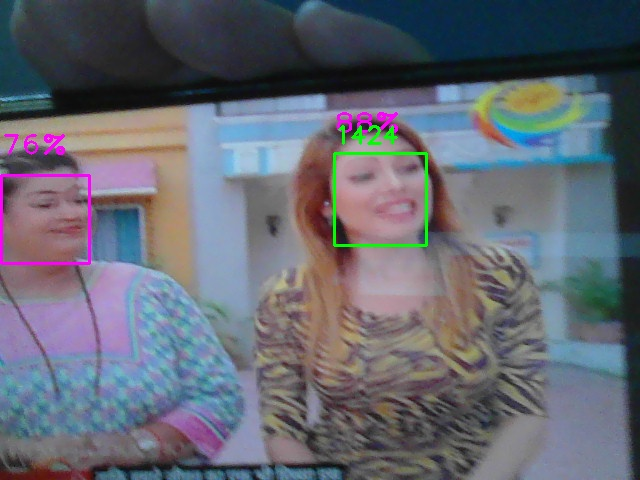fake: (334, 153, 427, 246)
